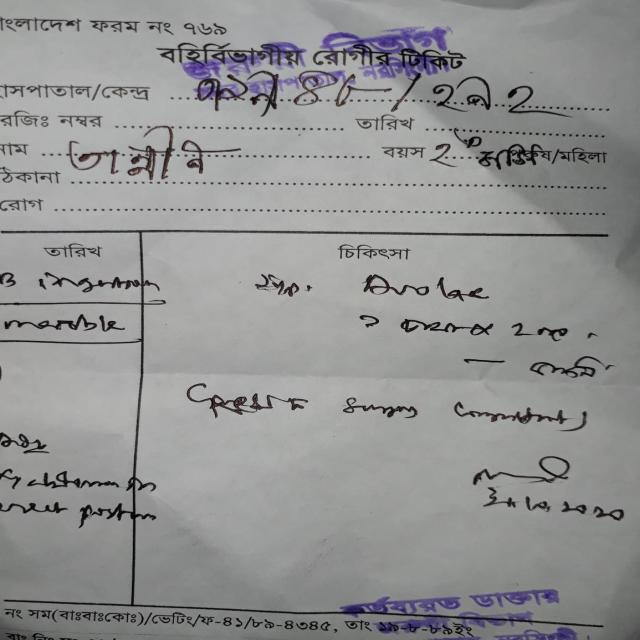Avolac: (353, 269, 496, 304)
